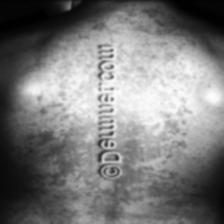Toxin: (60, 112, 76, 127), (38, 92, 50, 104)
